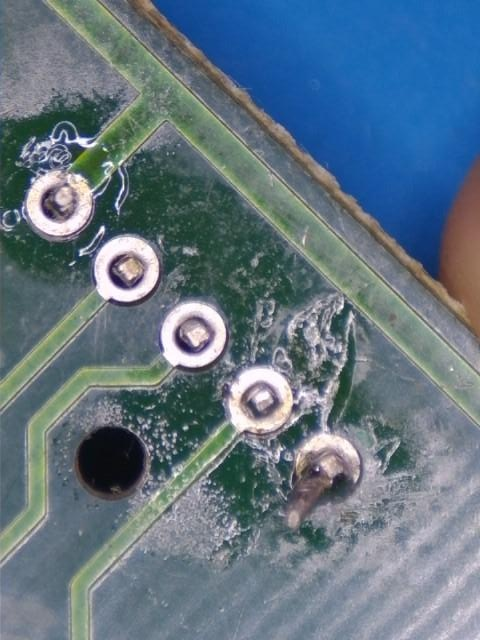pcb_defect: (229, 368, 293, 434), (297, 434, 360, 499)
